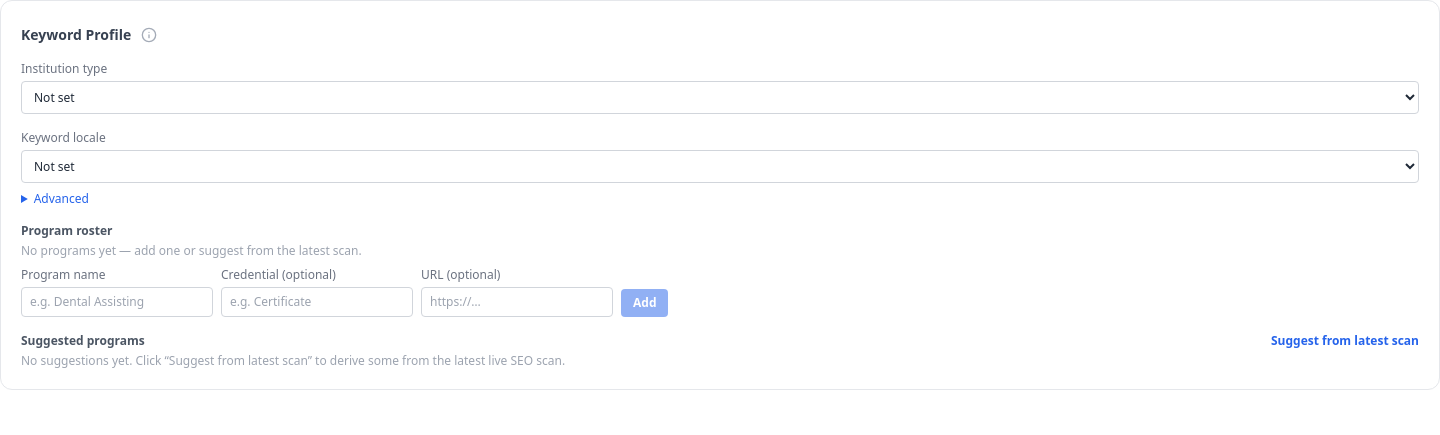
KeywordProfileCard › surfaces the 409 no_live_scan_run hint after a failed suggest (stale hasLiveScan)
The image size is (1440, 435).
Click the button "Suggest from latest scan" at (1345, 341), box [1271,333,1419,349]
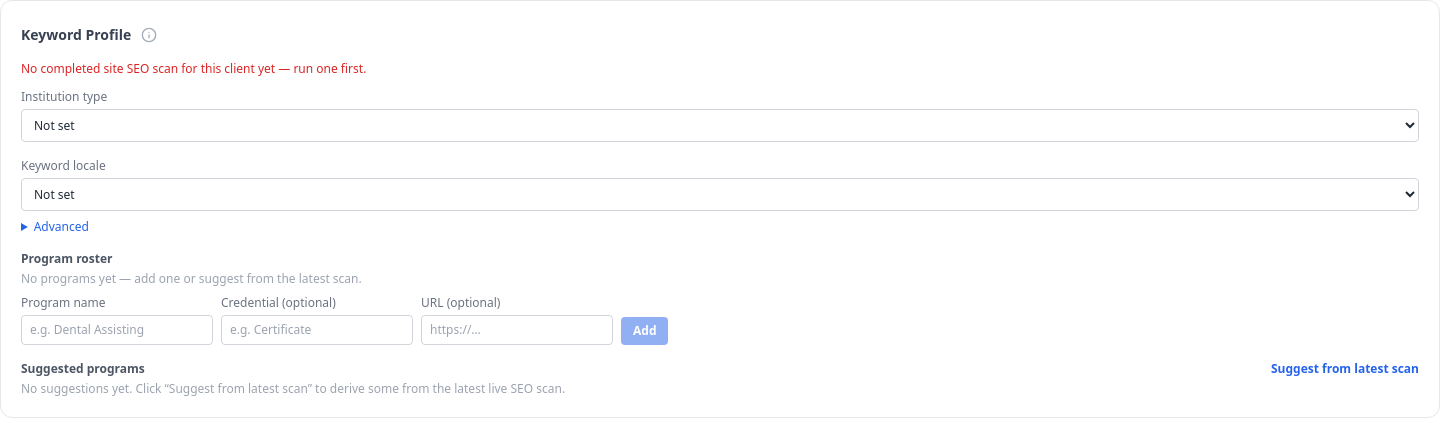
Expected: the text "No completed site SEO scan" is shown, [21,60,366,77]
